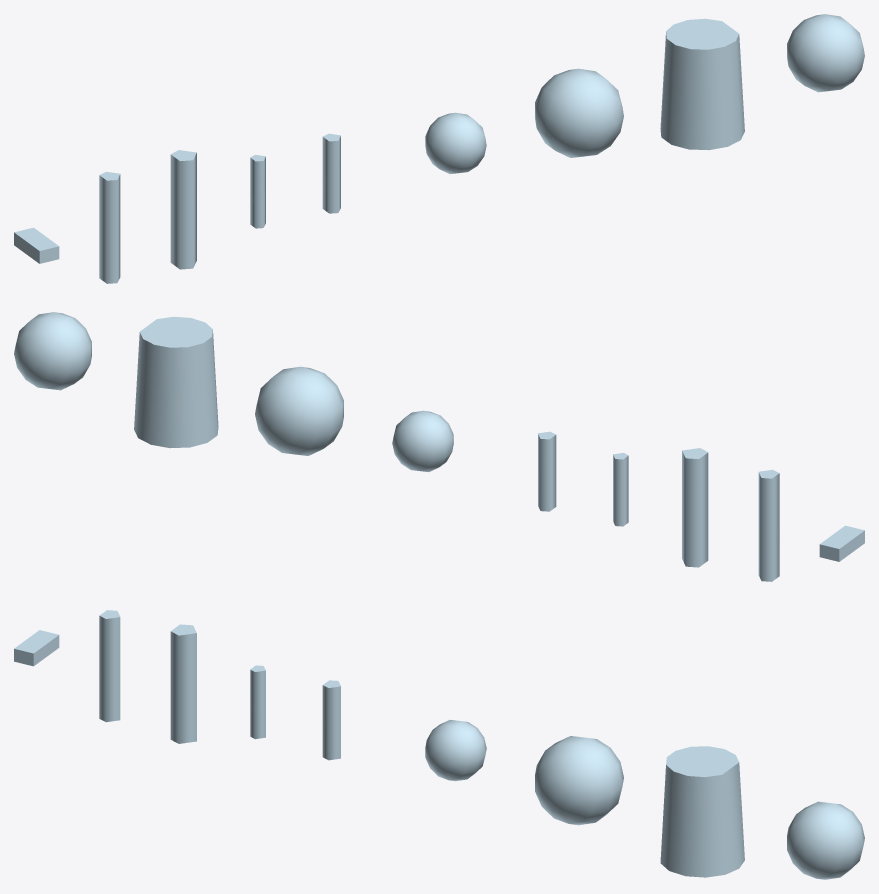
File: crowd_kit_lod2.glb
The picture shows the model from 3 angles, top to bottom: view 1: azimuth 30°, elevation 25°; view 2: azimuth 150°, elevation 25°; view 3: azimuth 330°, elevation 25°; orthographic projection.
Parts seen in each view (by area): view 1: Person torso, Person chest, Person hip, Person thigh, Person head, Person shin, Person upper arm, Person forearm, Person foot; view 2: Person torso, Person chest, Person hip, Person thigh, Person head, Person shin, Person upper arm, Person forearm, Person foot; view 3: Person torso, Person chest, Person hip, Person thigh, Person head, Person shin, Person upper arm, Person forearm, Person foot.
Part boxes in pixels (x1,y1,x2,y2): Person torso: [660, 18, 744, 150]; Person chest: [535, 68, 623, 157]; Person hip: [787, 14, 864, 92]; Person thigh: [170, 150, 196, 269]; Person head: [425, 112, 486, 173]; Person shin: [99, 171, 120, 283]; Person upper arm: [322, 133, 340, 213]; Person forearm: [250, 154, 265, 228]; Person foot: [14, 227, 59, 263]; Person torso: [134, 316, 218, 448]; Person chest: [255, 366, 343, 455]; Person hip: [14, 312, 91, 390]; Person thigh: [682, 448, 708, 567]; Person head: [392, 410, 453, 471]; Person shin: [758, 469, 779, 581]; Person upper arm: [538, 431, 556, 511]; Person forearm: [613, 452, 628, 526]; Person foot: [819, 525, 864, 561]; Person torso: [660, 746, 744, 877]; Person chest: [535, 736, 623, 825]; Person hip: [787, 801, 864, 879]; Person thigh: [170, 624, 196, 743]; Person head: [425, 720, 486, 781]; Person shin: [99, 610, 120, 722]; Person upper arm: [322, 680, 340, 760]; Person forearm: [250, 665, 265, 739]; Person foot: [14, 630, 59, 666].
Size of the model in its own units: 3.38 by 0.42 by 0.32.
